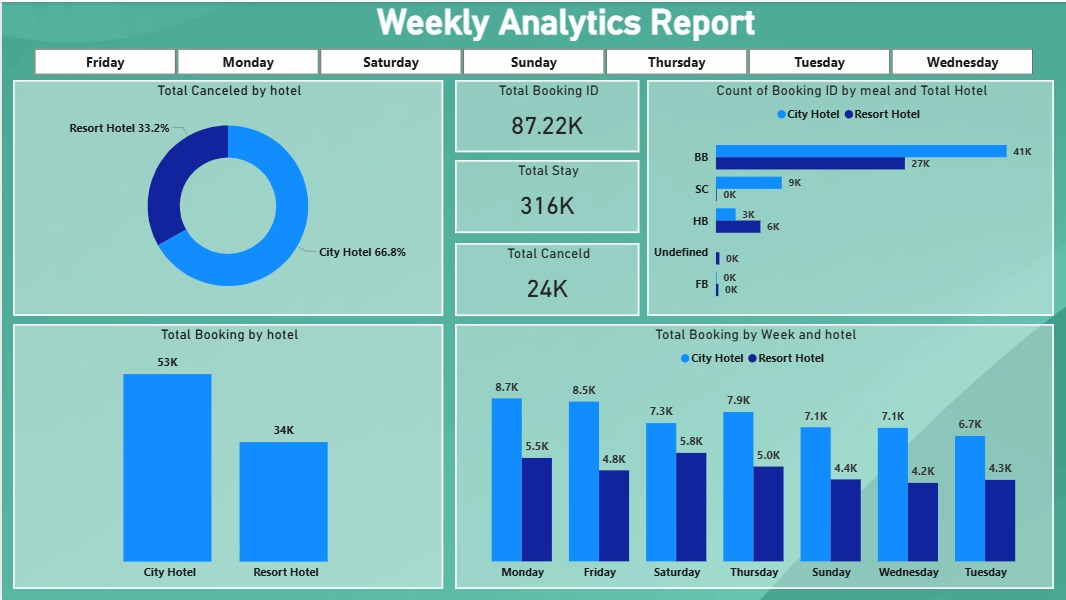

The dashboard page shown, as its layout file describes it:
{"tool":"powerbi","page":{"name":"Page 2","canvas":[1280,720],"ordinal":1},"visuals":[{"type":"columnChart","fields":{"Y":["CountNonNull(Sheet1.Booking ID)"],"Category":["Sheet1.hotel"]},"box":[13.2,388.2,517.6,319.1],"z":0},{"type":"donutChart","fields":{"Y":["Sum(Sheet1.is_canceled)"],"Category":["Sheet1.hotel"]},"box":[13.2,94.1,517.6,283.8],"z":1000},{"type":"clusteredColumnChart","fields":{"Y":["CountNonNull(Sheet1.Booking ID)"],"Category":["Sheet1.Week_Column"],"Series":["Sheet1.hotel"]},"box":[545.6,388.2,720.6,319.1],"z":2000},{"type":"pieChart","fields":{"Category":["Sheet1.meal"],"Y":["CountNonNull(Sheet1.hotel)"]},"box":[776.5,94.1,489.7,283.8],"z":3000},{"type":"slicer","fields":{"Values":["Sheet1.Week_Column"]},"box":[13.8,49.5,1252.5,44],"z":4000},{"type":"card","title":"Total Booking ID","fields":{"Values":["CountNonNull(Sheet1.Booking ID)"]},"box":[545,93.6,221.6,86.7],"z":5000},{"type":"card","title":"Total Canceld","fields":{"Values":["Sum(Sheet1.is_canceled)"]},"box":[545,290.4,221.6,88.1],"z":6000},{"type":"card","title":"Total Stay","fields":{"Values":["Sum(Sheet1.Total stay)"]},"box":[545,189.9,221.6,88.1],"z":7000},{"type":"textbox","title":"Weekly Analytics Report","box":[79.8,0,1200.2,53.7],"z":8000}]}

Visuals, with their boxes in screenshot pixels (x1, y1, x2, y2), scaled from the page's 1280x720 canvas onto the 1066x600 screenshot:
columnChart - CountNonNull(Sheet1.Booking ID) x Sheet1.hotel: (x1=11, y1=324, x2=442, y2=589)
donutChart - Sum(Sheet1.is_canceled) x Sheet1.hotel: (x1=11, y1=78, x2=442, y2=315)
clusteredColumnChart - CountNonNull(Sheet1.Booking ID) x Sheet1.Week_Column: (x1=454, y1=324, x2=1055, y2=589)
pieChart - Sheet1.meal x CountNonNull(Sheet1.hotel): (x1=647, y1=78, x2=1055, y2=315)
slicer - Sheet1.Week_Column: (x1=11, y1=41, x2=1055, y2=78)
"Total Booking ID" card: (x1=454, y1=78, x2=638, y2=150)
"Total Canceld" card: (x1=454, y1=242, x2=638, y2=315)
"Total Stay" card: (x1=454, y1=158, x2=638, y2=232)
"Weekly Analytics Report" textbox: (x1=66, y1=0, x2=1065, y2=45)
